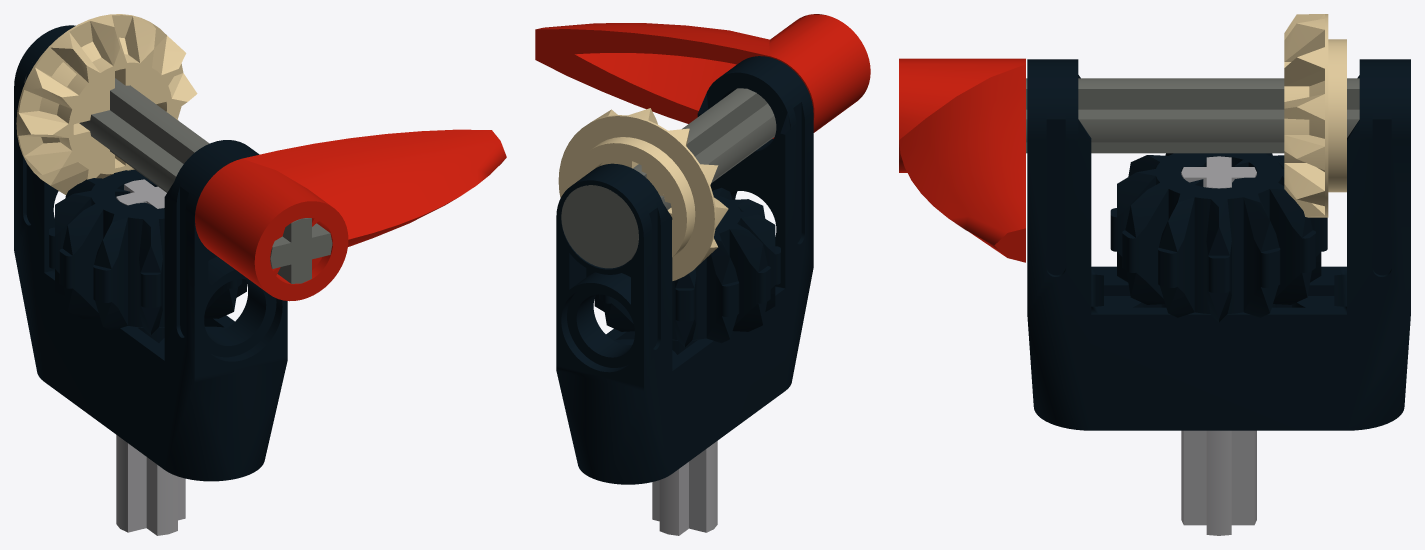
The model's file is 90_degree_2.glb.
3 views of the same model, side by side, from view 1: azimuth 30°, elevation 25°; view 2: azimuth 150°, elevation 25°; view 3: azimuth 270°, elevation 25° (orthographic). The views are drawn at different scales.
Visible parts, largest first — view 1: 87408.dat, 41669.dat, 6589.dat, 32270.dat, 87083.dat, 4519.dat; view 2: 87408.dat, 41669.dat, 32270.dat, 6589.dat, 87083.dat, 4519.dat; view 3: 87408.dat, 32270.dat, 41669.dat, 87083.dat, 6589.dat, 4519.dat.
Boxes of the visible parts, x1,y1,x2,y2 form: 87408.dat: [14, 25, 287, 481]; 41669.dat: [195, 129, 506, 301]; 6589.dat: [16, 14, 197, 194]; 32270.dat: [49, 169, 246, 334]; 87083.dat: [24, 76, 332, 283]; 4519.dat: [116, 179, 185, 535]; 87408.dat: [556, 56, 813, 484]; 41669.dat: [535, 14, 870, 138]; 32270.dat: [594, 187, 780, 346]; 6589.dat: [558, 108, 728, 280]; 87083.dat: [561, 88, 776, 268]; 4519.dat: [652, 441, 717, 535]; 87408.dat: [1027, 59, 1410, 430]; 32270.dat: [1110, 153, 1327, 321]; 41669.dat: [899, 58, 1025, 262]; 87083.dat: [1026, 78, 1359, 153]; 6589.dat: [1284, 14, 1346, 217]; 4519.dat: [1181, 156, 1256, 535].
Size of the model in its own units: 0.6473 by 0.8541 by 0.798.
